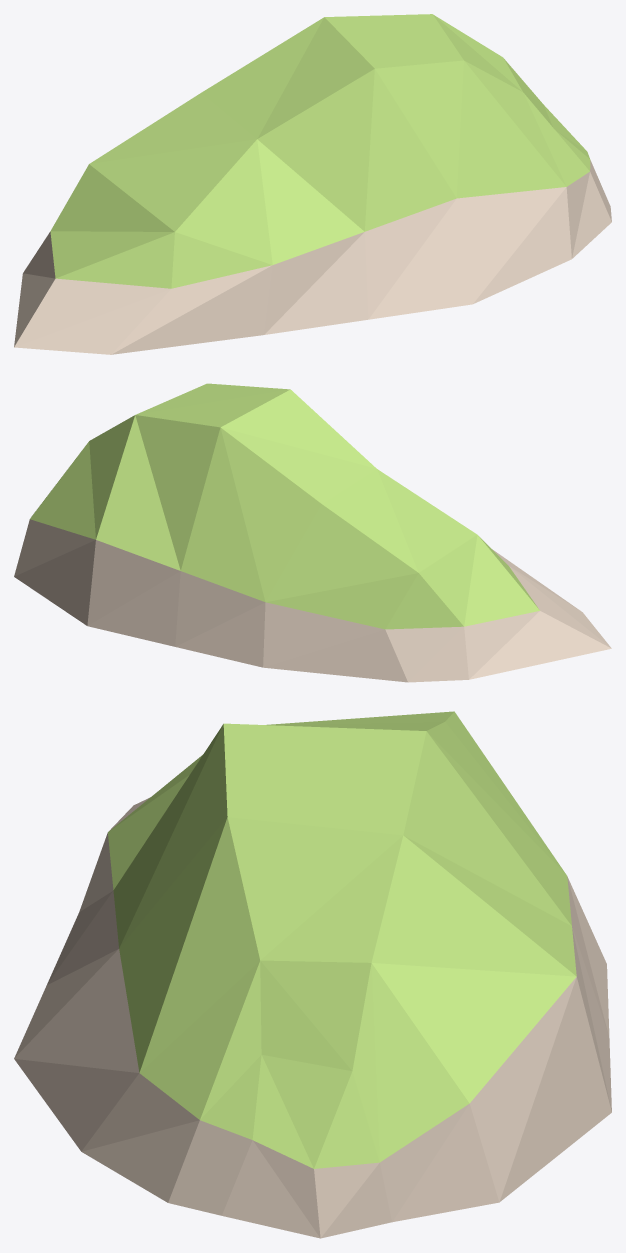
Rendered from Small_hill_02a.fbx.
3 views of the same model, one above another, from view 1: azimuth 30°, elevation 25°; view 2: azimuth 150°, elevation 25°; view 3: azimuth 270°, elevation 25° (orthographic). The views are drawn at different scales.
Parts seen in each view (by area): view 1: Small_hill_02; view 2: Small_hill_02; view 3: Small_hill_02.
Boxes of the visible parts, left/top/right/bottom form: Small_hill_02: left=14, top=14, right=611, bottom=354; Small_hill_02: left=14, top=383, right=611, bottom=682; Small_hill_02: left=14, top=711, right=611, bottom=1238.
Size of the model in its own units: 16.94 by 5.34 by 9.03.
